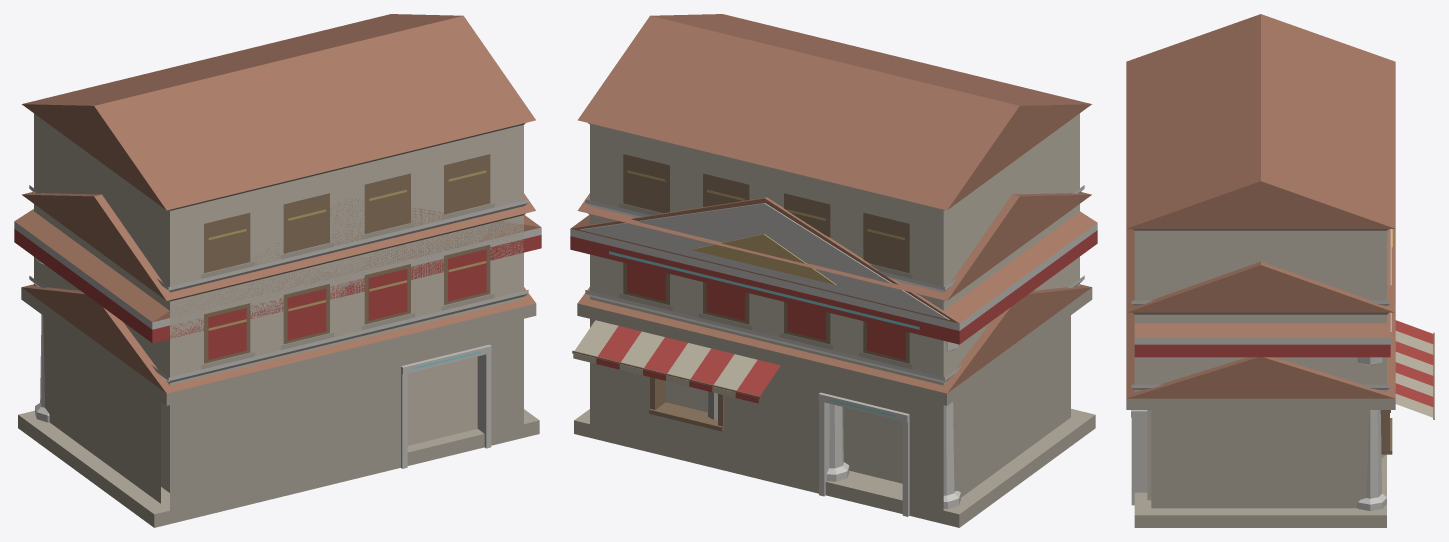
Rendered from m2cx2_town.glb.
3 views of the same model, side by side, from view 1: azimuth 30°, elevation 25°; view 2: azimuth 150°, elevation 25°; view 3: azimuth 270°, elevation 25° (orthographic). The views are drawn at different scales.
Visible parts, largest first — view 1: insula_triple, fabrica_stack, insula_duplex, templum_roofed, taberna_awning; view 2: insula_triple, fabrica_stack, templum_roofed, insula_duplex, taberna_awning; view 3: insula_triple, fabrica_stack, templum_roofed, insula_duplex, taberna_awning.
Boxes of the visible parts, left/top/right/bottom form: insula_triple: left=22, top=14, right=535, bottom=384; fabrica_stack: left=21, top=284, right=536, bottom=523; insula_duplex: left=22, top=192, right=535, bottom=385; templum_roofed: left=14, top=198, right=541, bottom=527; taberna_awning: left=23, top=288, right=165, bottom=392; insula_triple: left=578, top=14, right=1091, bottom=385; fabrica_stack: left=577, top=284, right=1092, bottom=523; templum_roofed: left=570, top=197, right=1097, bottom=527; insula_duplex: left=577, top=192, right=1091, bottom=385; taberna_awning: left=572, top=288, right=1090, bottom=403; insula_triple: left=1126, top=14, right=1395, bottom=391; fabrica_stack: left=1126, top=312, right=1395, bottom=508; templum_roofed: left=1134, top=229, right=1392, bottom=527; insula_duplex: left=1126, top=229, right=1395, bottom=392; taberna_awning: left=1135, top=320, right=1434, bottom=419.
Size of what is drawn, in the model's own units: 9.9 by 9 by 7.33.
